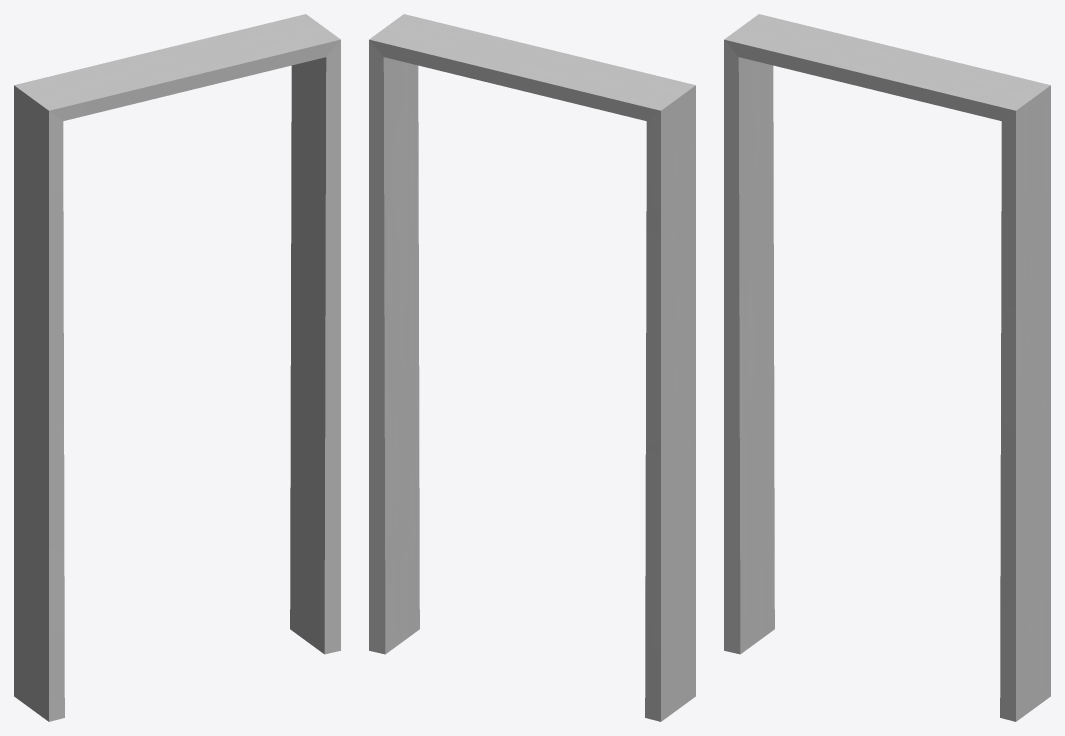
Rendered from Door_Frame_01.fbx.
The picture shows the model from 3 angles, left to right: view 1: azimuth 30°, elevation 25°; view 2: azimuth 150°, elevation 25°; view 3: azimuth 330°, elevation 25°; orthographic projection.
Visible parts, largest first — view 1: Door_Frame_01; view 2: Door_Frame_01; view 3: Door_Frame_01.
Boxes of the visible parts, bbox=[...] form: Door_Frame_01: bbox=[14, 14, 340, 721]; Door_Frame_01: bbox=[369, 14, 695, 721]; Door_Frame_01: bbox=[724, 14, 1050, 721].
Bounding box in the file's own units: 1 × 2 × 0.2074.
